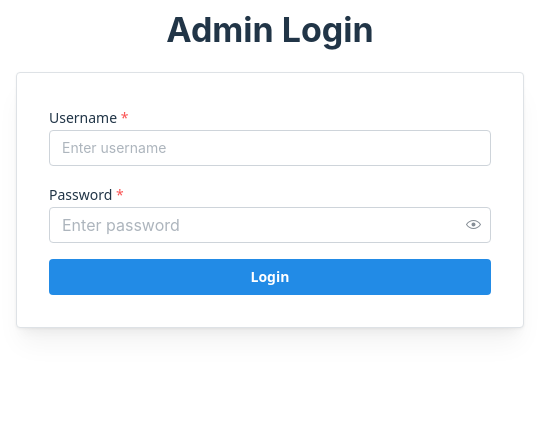
Test: Login component › displays error message on login failure
Type "admin" into the field labelled "Username *".
click(270, 148); type("admin")  # box [49,130,491,166]
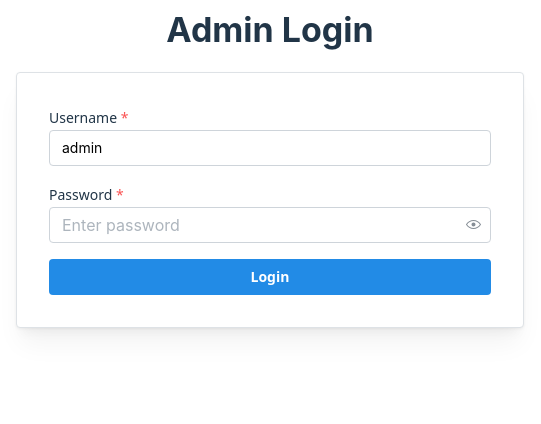
Type "wrongpassword" into the password field labelled "Password *".
click(270, 225); type("wrongpassword")  # box [50,208,490,242]
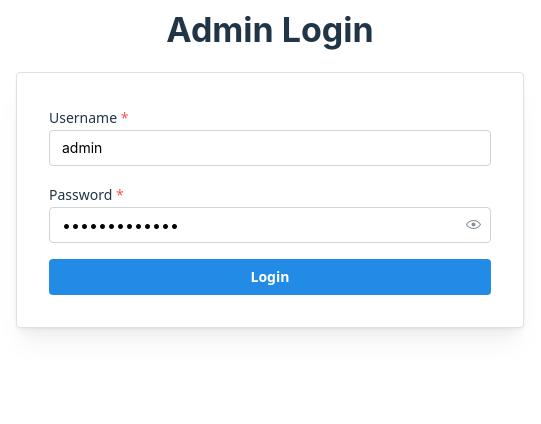
Click the button "Login".
click(270, 277)  # box [49,259,491,295]
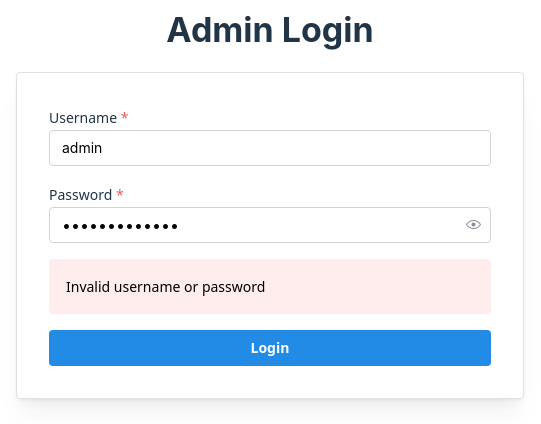
Expected: the text "Invalid username or password" is shown, [66,277,265,296]
